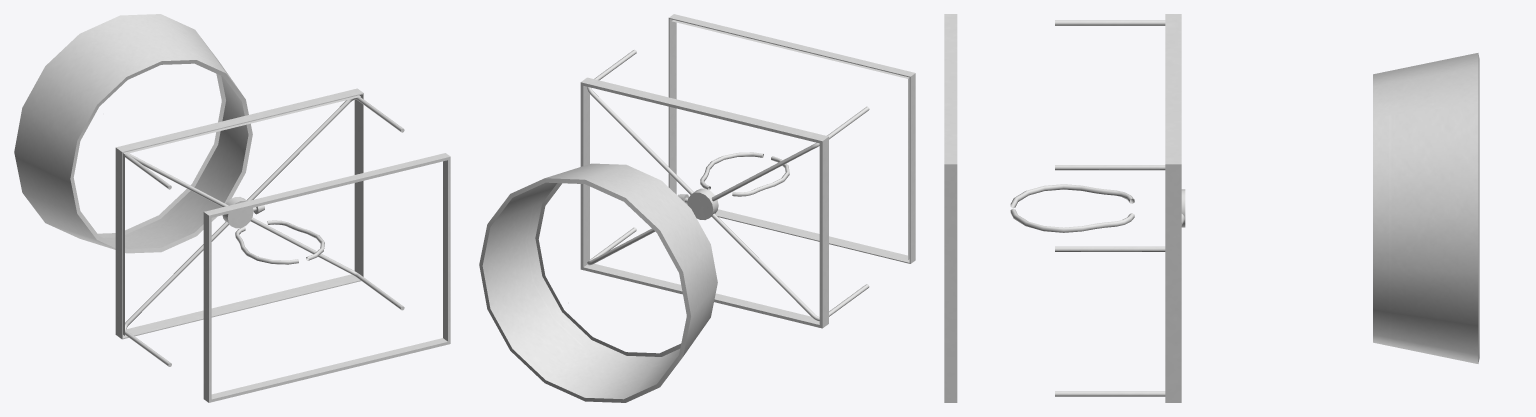
Rendered from MeshDeskLamp_4_0_GeomSubset_1.obj.
3 renders of one model, left to right at view 1: azimuth 30°, elevation 25°; view 2: azimuth 150°, elevation 25°; view 3: azimuth 270°, elevation 25°, orthographic. The views are drawn at different scales.
Visible parts, largest first — view 1: MeshDeskLamp_4_0_GeomSubset_1; view 2: MeshDeskLamp_4_0_GeomSubset_1; view 3: MeshDeskLamp_4_0_GeomSubset_1.
Boxes of the visible parts, <box> form: MeshDeskLamp_4_0_GeomSubset_1: <box>14,14,450,402</box>; MeshDeskLamp_4_0_GeomSubset_1: <box>479,14,915,402</box>; MeshDeskLamp_4_0_GeomSubset_1: <box>944,14,1479,402</box>.
Size of the model in its own units: 0.2171 by 0.1903 by 0.3526.
Materials: 1 (1 with a texture image).
